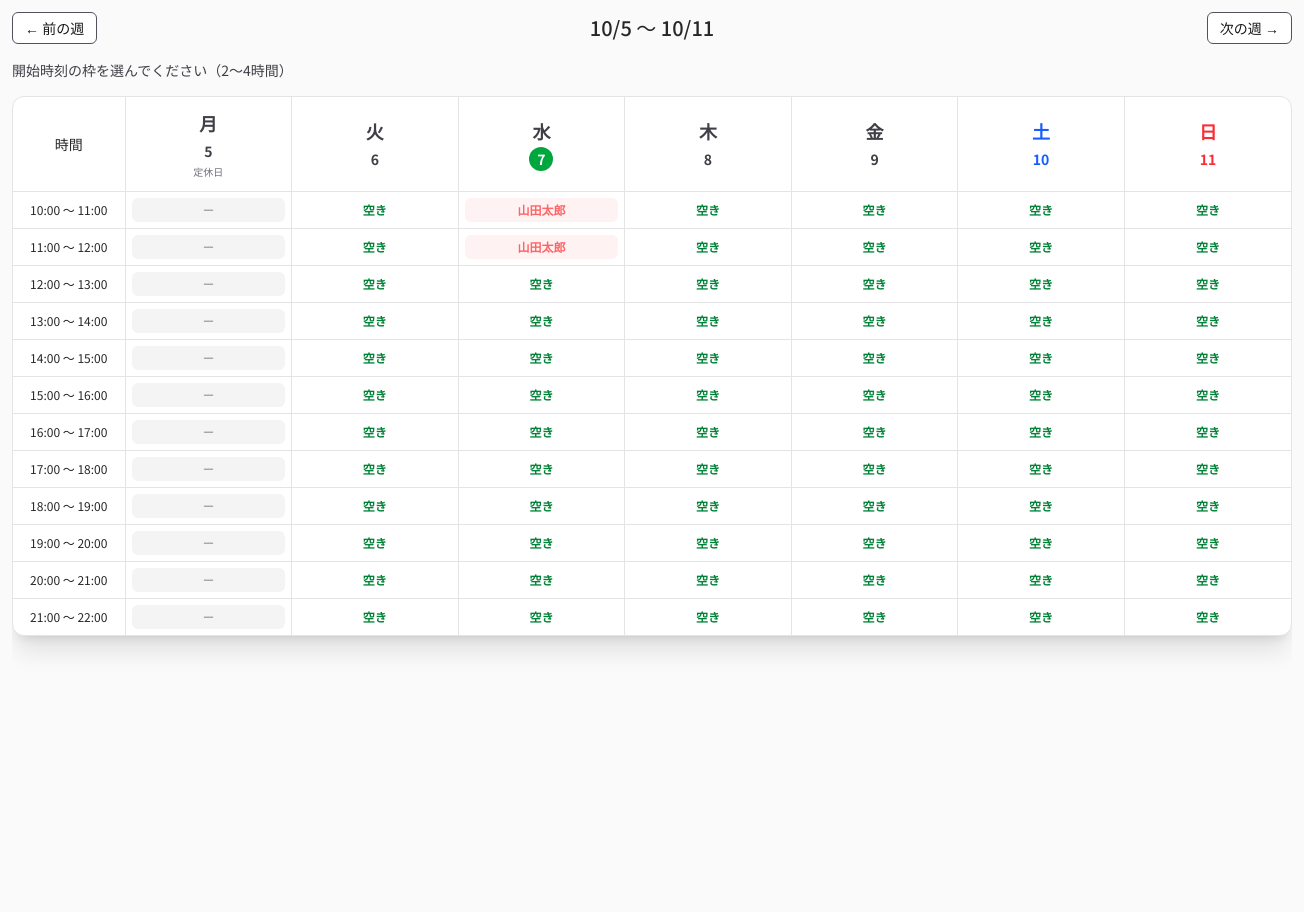
Test: 表示 › 次の週には制限なく進める
Expected: the button with aria-label "10月7日（水） 10:00 〜 11:00 山田太郎 さんの予約" is shown, [465,198,618,222]
Step 1. Click the button "次の週 →" → (1249, 28), box [1207,12,1292,44]
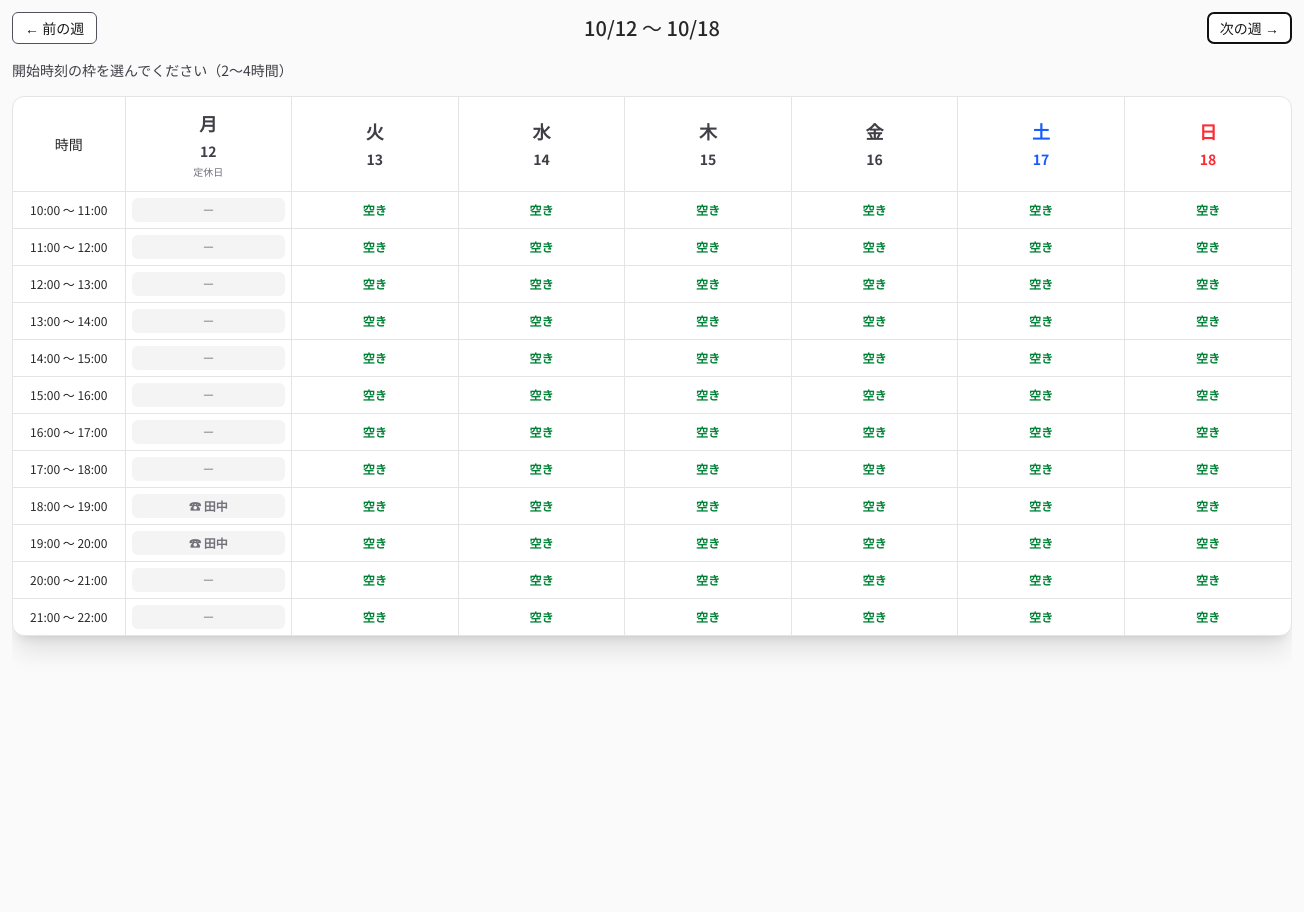
Step 2. Click the button "次の週 →" → (1249, 28), box [1207,12,1292,44]
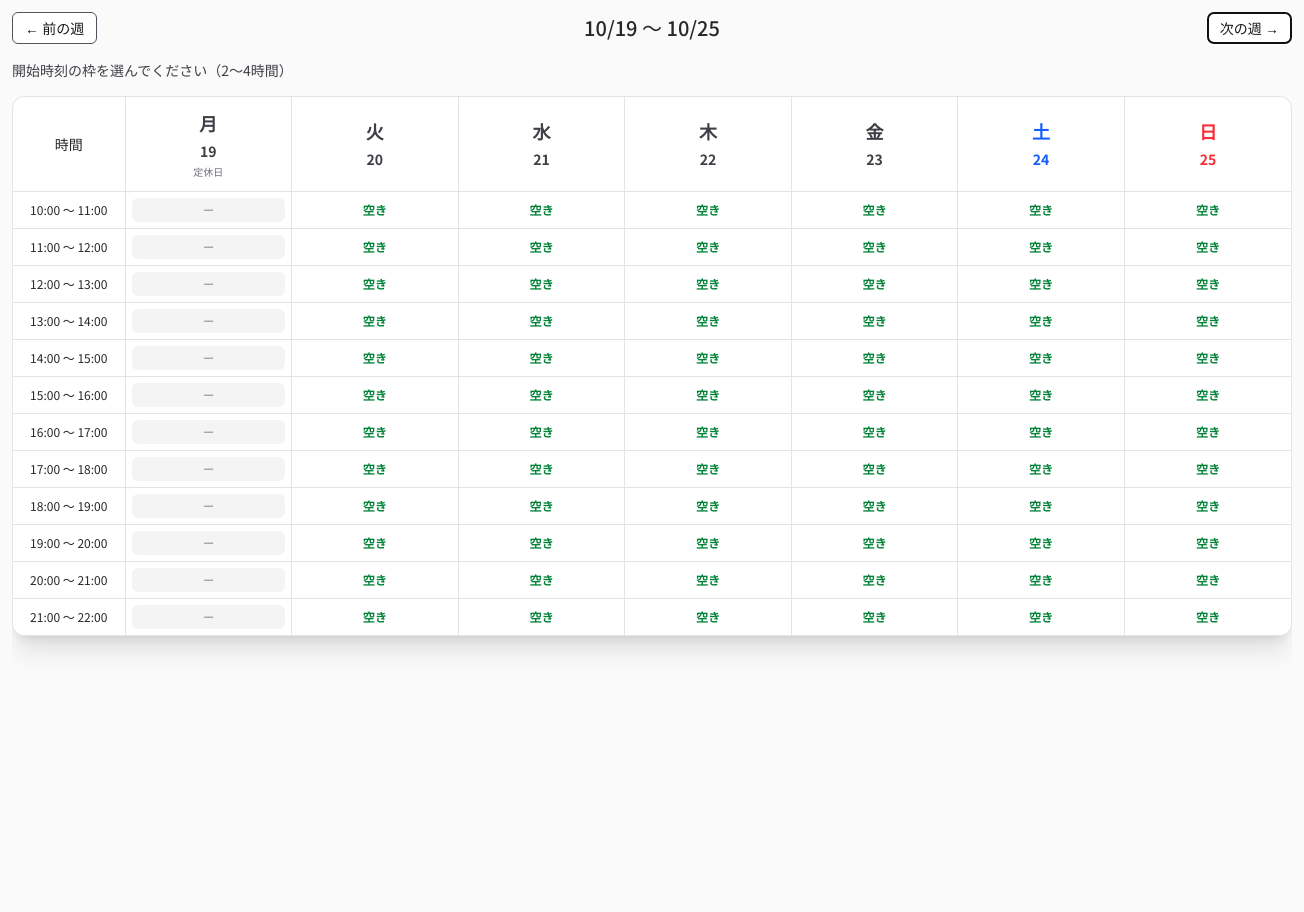
Step 3. Click the button "次の週 →" → (1249, 28), box [1207,12,1292,44]
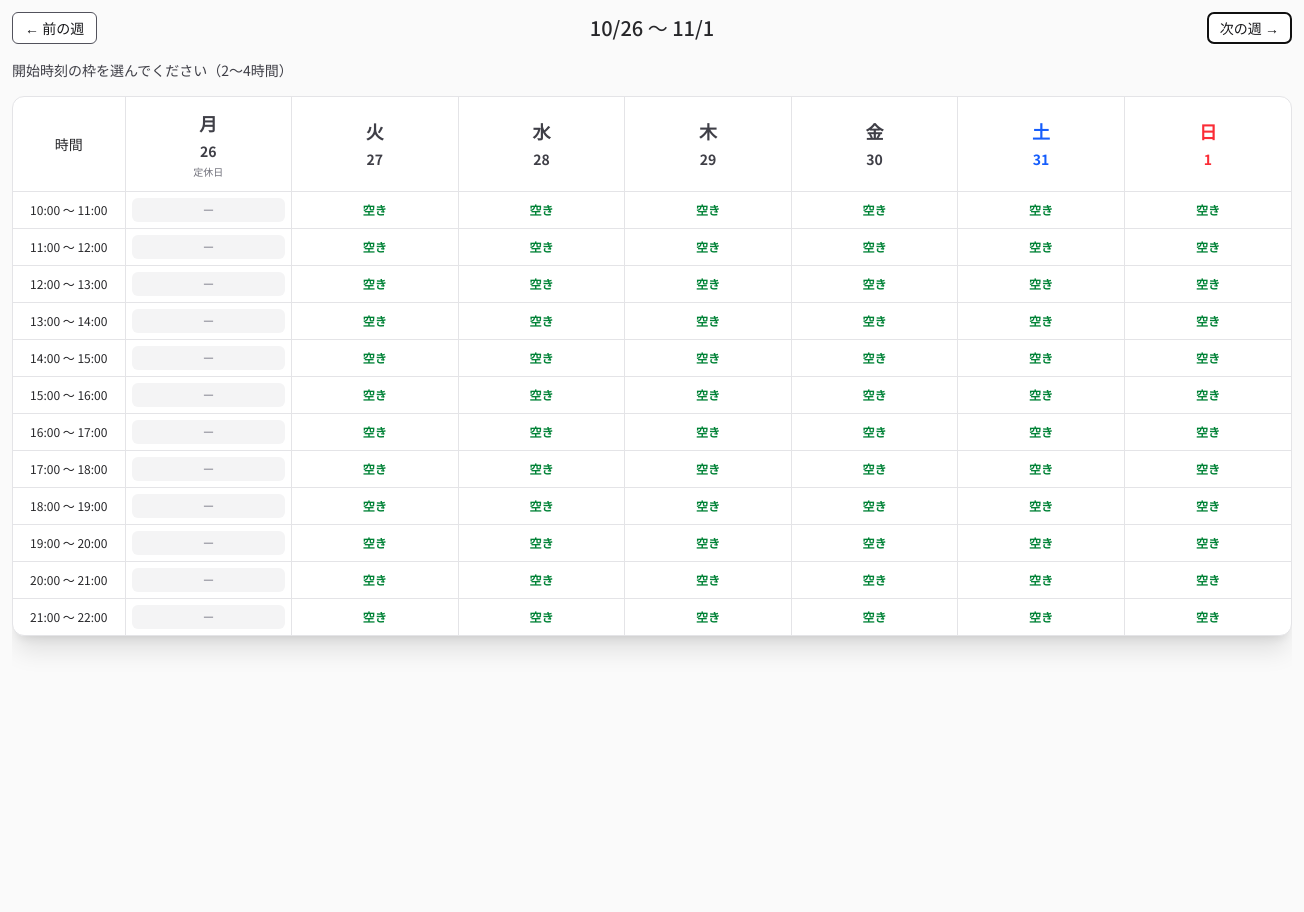
Step 4. Click the button "次の週 →" → (1249, 28), box [1207,12,1292,44]
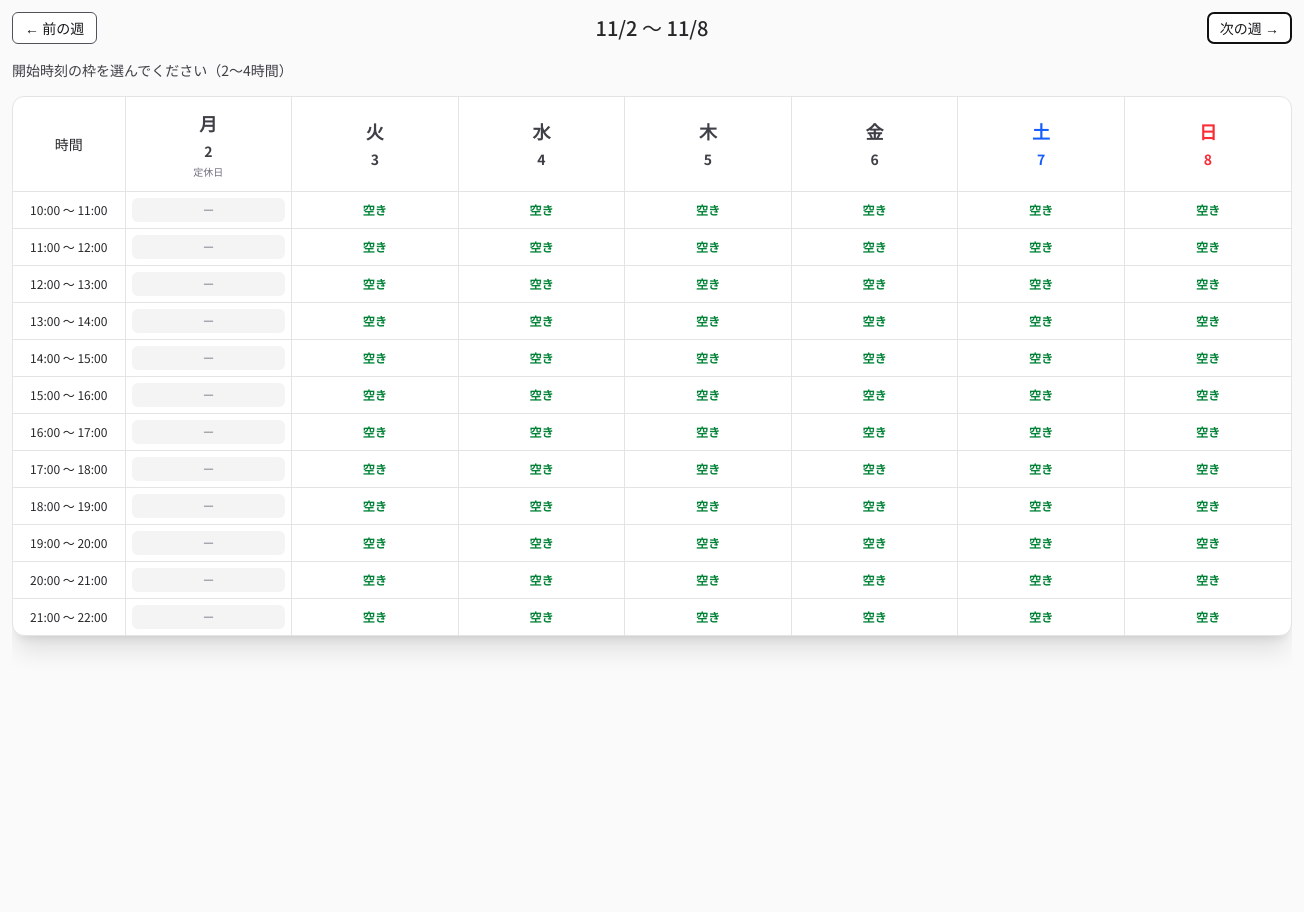
Step 5. Click the button "次の週 →" → (1249, 28), box [1207,12,1292,44]
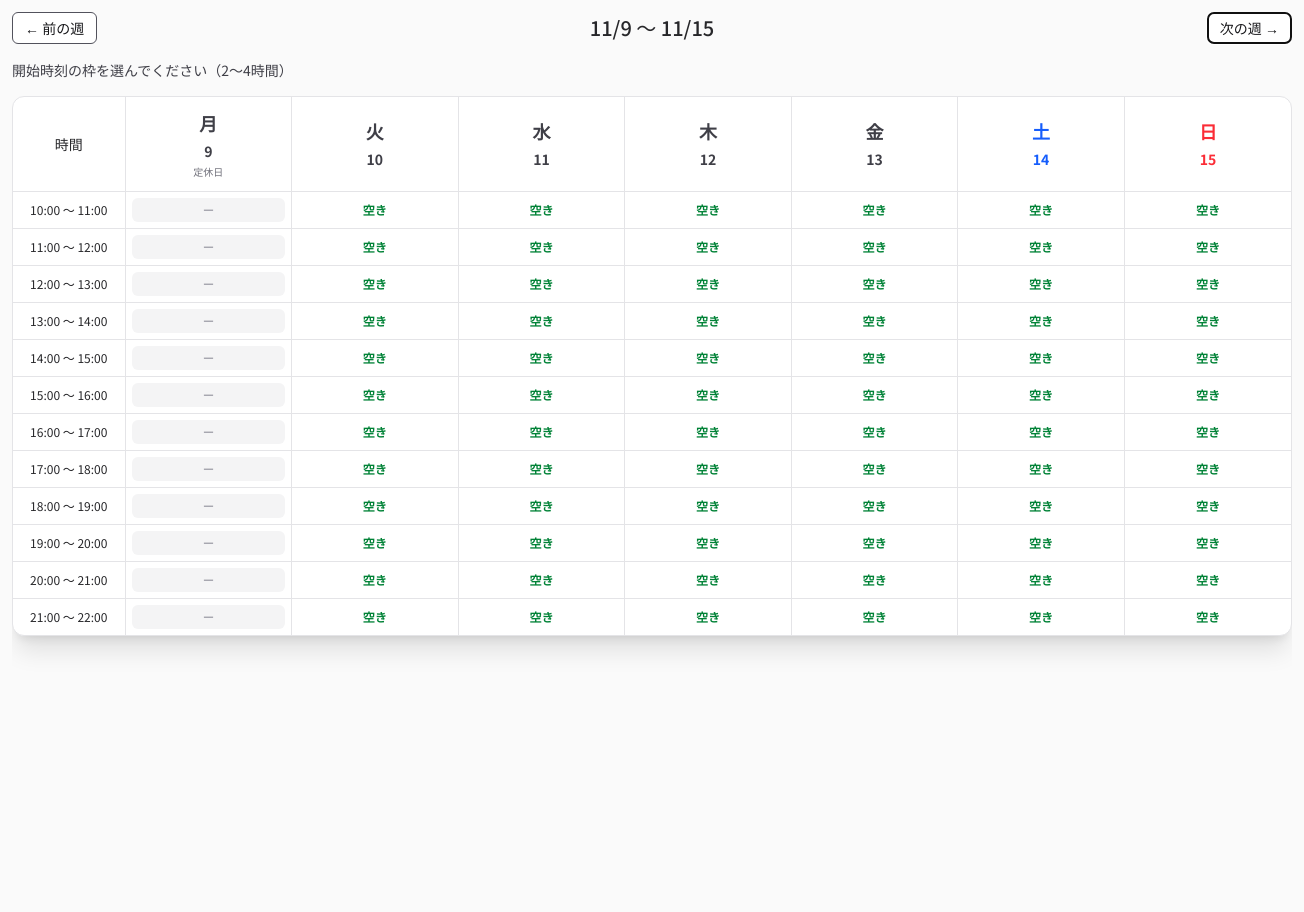
Step 6. Click the button "次の週 →" → (1249, 28), box [1207,12,1292,44]
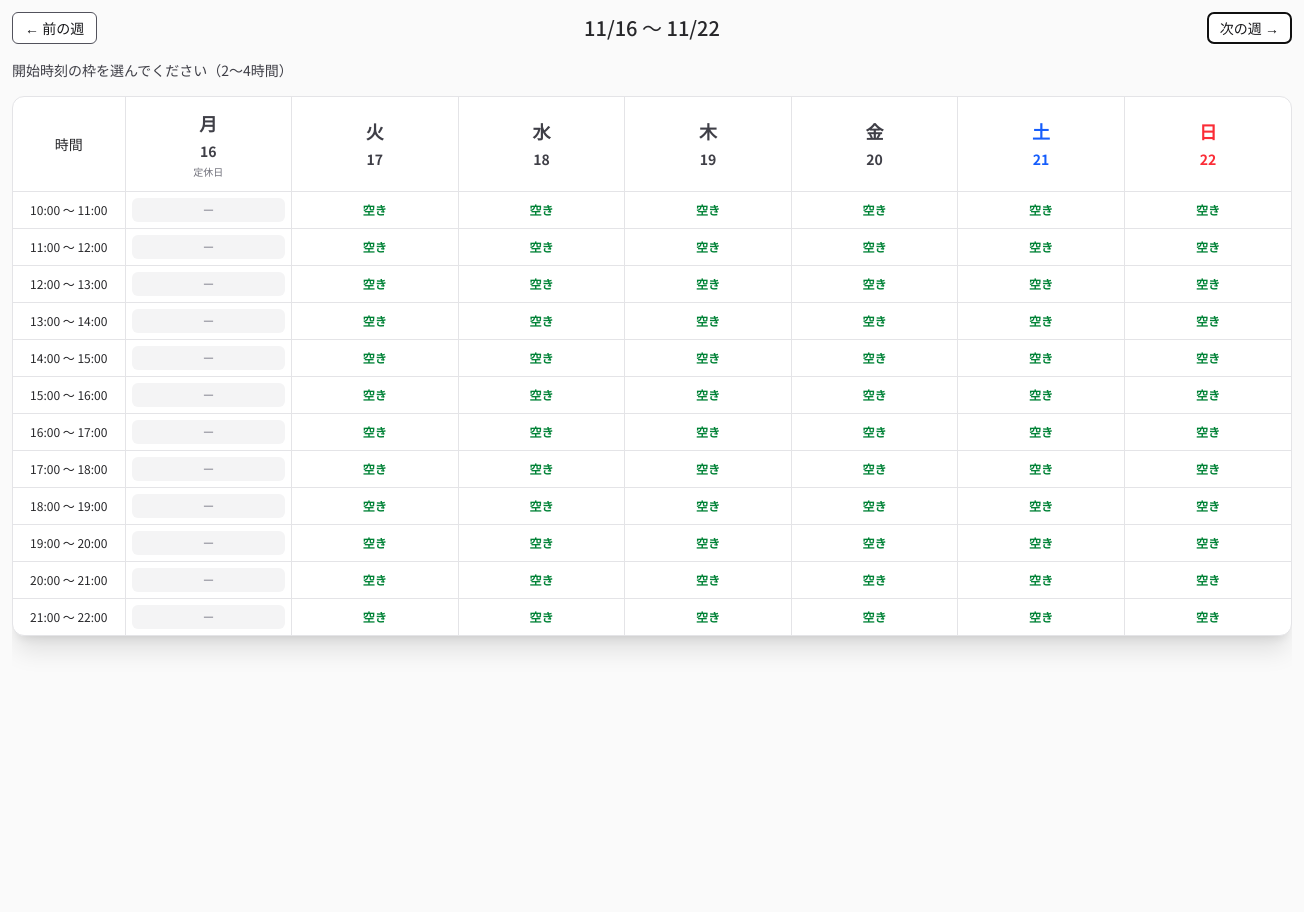
Expected: the text "11/16 〜 11/22" is shown, [584,14,720,42]
